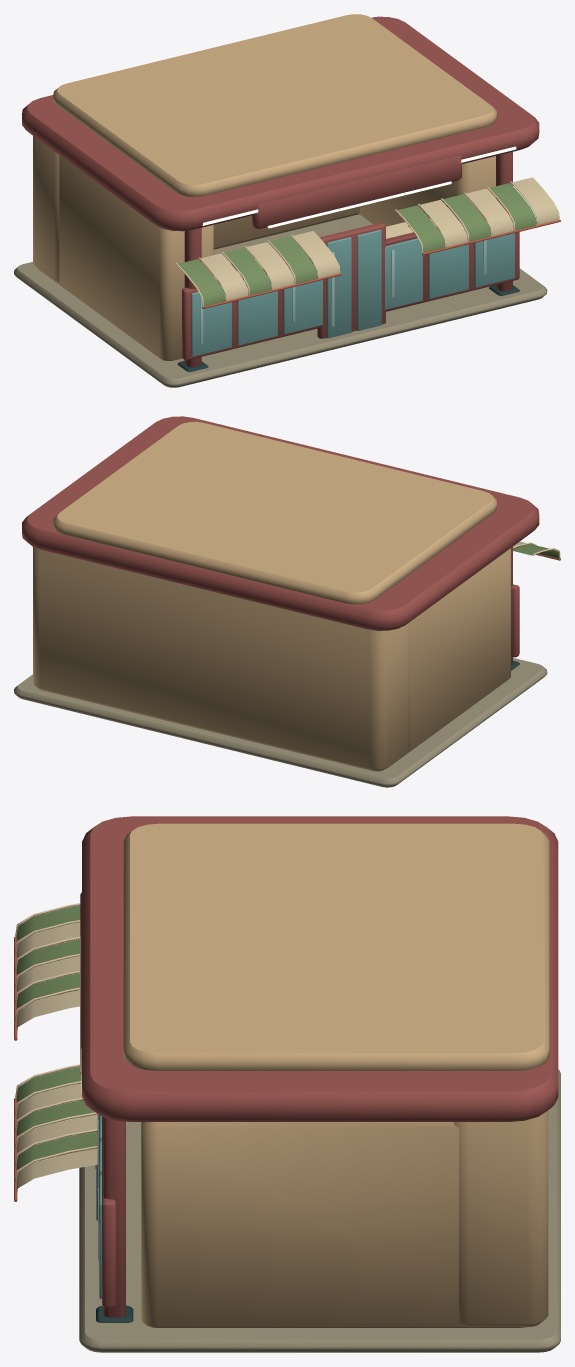
The model's file is route66_parts.glb.
3 renders of one model, top to bottom at view 1: azimuth 30°, elevation 25°; view 2: azimuth 150°, elevation 25°; view 3: azimuth 270°, elevation 25°, orthographic. The views are drawn at different scales.
Visible parts, largest first — view 1: Route66Parts; view 2: Route66Parts; view 3: Route66Parts.
Part boxes in pixels (left/top/right/bottom): Route66Parts: left=14, top=14, right=560, bottom=387; Route66Parts: left=14, top=416, right=560, bottom=787; Route66Parts: left=14, top=816, right=560, bottom=1352.
Size of the model in its own units: 7.38 by 3.36 by 6.04.
